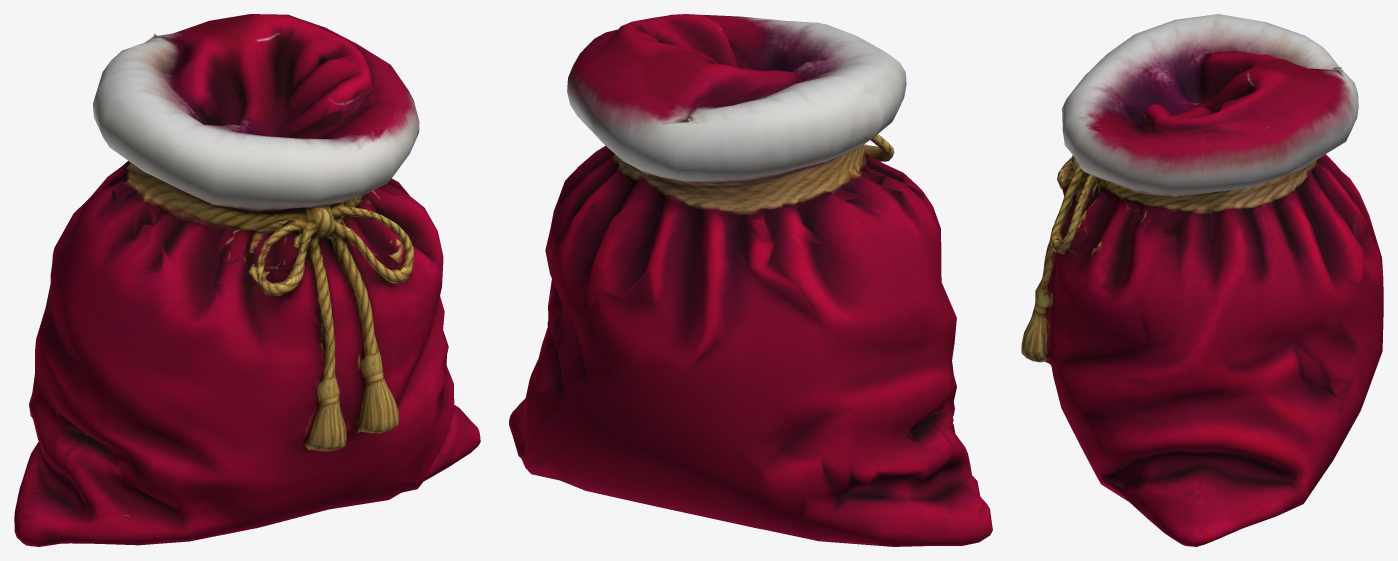
Rendered from Meshy_AI_Gift_Bag_0104072152_texture.fbx.
3 renders of one model, left to right at view 1: azimuth 30°, elevation 25°; view 2: azimuth 150°, elevation 25°; view 3: azimuth 270°, elevation 25°, orthographic. The views are drawn at different scales.
Visible parts, largest first — view 1: Mesh_0.009; view 2: Mesh_0.009; view 3: Mesh_0.009.
Part boxes in pixels (x1,y1,x2,y2): Mesh_0.009: (14, 14, 480, 546); Mesh_0.009: (509, 14, 992, 546); Mesh_0.009: (1021, 14, 1383, 546).
Bounding box in the file's own units: 190 × 174 × 143.
1 material, 1 textured.
